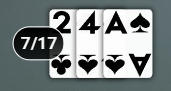2: (48, 9, 75, 37)
4: (76, 9, 104, 36)
a: (102, 9, 131, 38)
